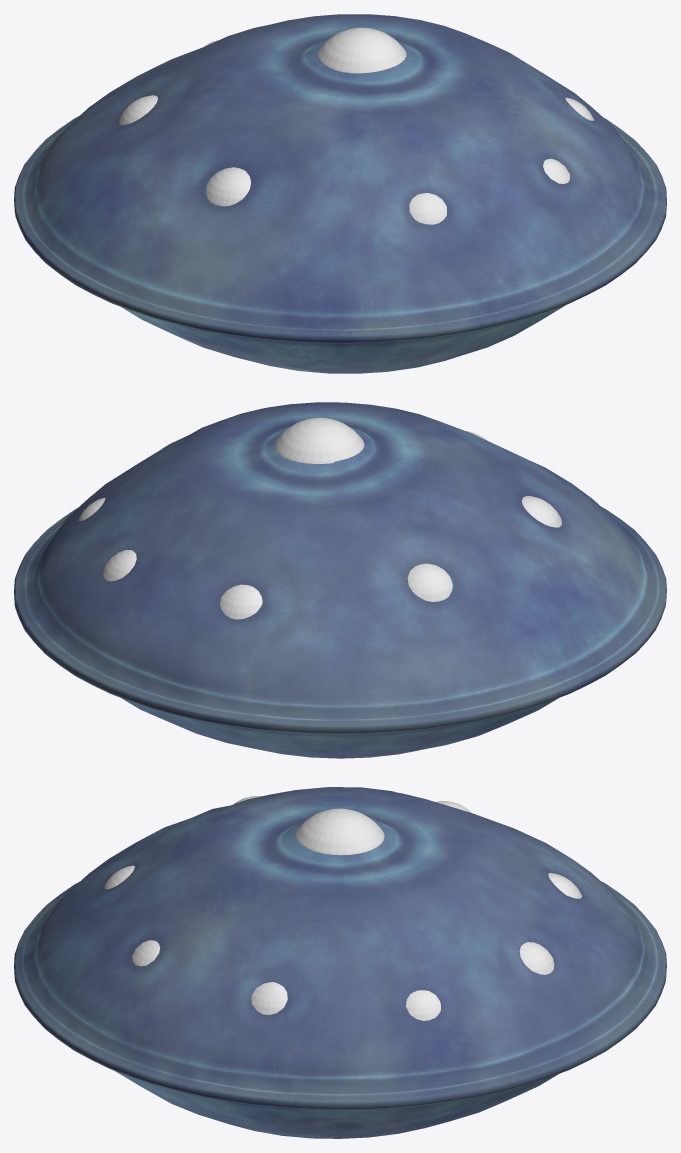
File: hangdrum.glb
3 renders of one model, top to bottom at view 1: azimuth 30°, elevation 25°; view 2: azimuth 150°, elevation 25°; view 3: azimuth 270°, elevation 25°, orthographic.
Parts seen in each view (by area): view 1: g, Point_I, Point_H, Point_A, Point_G; view 2: g, Point_I, Point_G, Point_F, Point_H, Point_E; view 3: g, Point_I, Point_C, Point_D, Point_E, Point_B.
Boxes of the visible parts, box(x1,y1,x2,y2) form: g: box(14, 14, 666, 373); Point_I: box(318, 27, 406, 73); Point_H: box(206, 167, 250, 206); Point_A: box(409, 193, 446, 224); Point_G: box(119, 95, 157, 124); g: box(14, 402, 666, 758); Point_I: box(275, 417, 364, 463); Point_G: box(407, 563, 452, 601); Point_F: box(220, 584, 262, 619); Point_H: box(522, 496, 561, 527); Point_E: box(103, 550, 136, 581); g: box(14, 787, 666, 1138); Point_I: box(295, 808, 384, 855); Point_C: box(251, 982, 287, 1014); Point_D: box(406, 990, 440, 1020); Point_E: box(519, 942, 554, 974); Point_B: box(132, 940, 160, 966).
Bounding box in the file's own units: 2 × 0.9724 × 2.
1 material, 1 textured.
